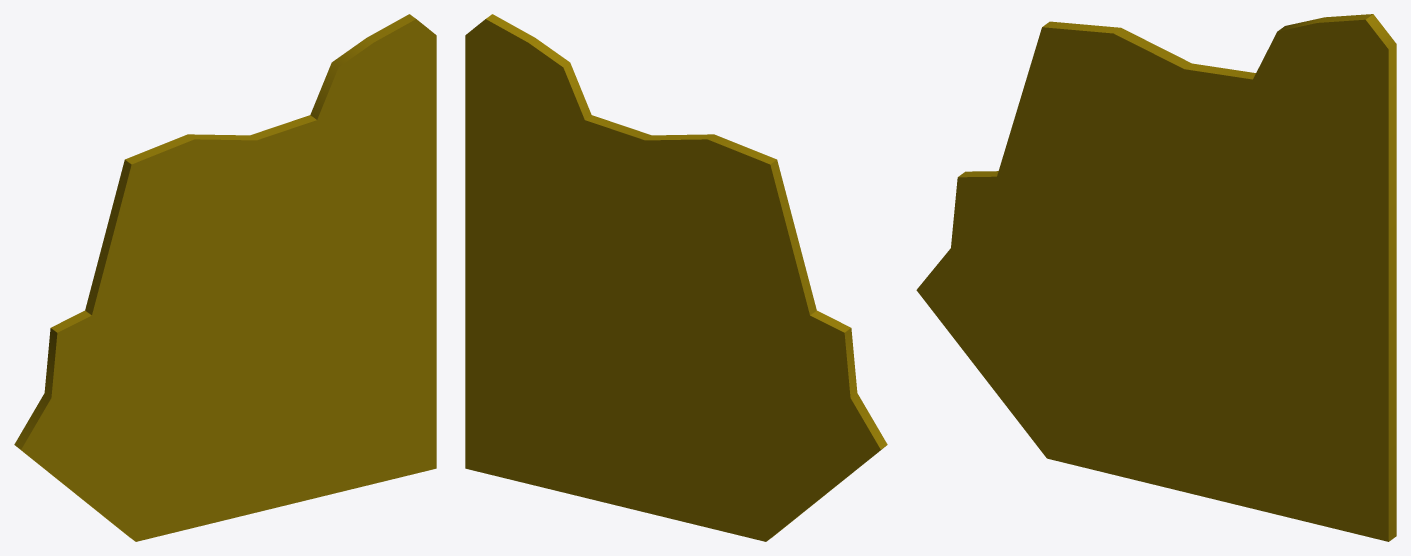
File: SM_Debris_mur3.fbx
The picture shows the model from 3 angles, left to right: view 1: azimuth 30°, elevation 25°; view 2: azimuth 150°, elevation 25°; view 3: azimuth 330°, elevation 25°; orthographic projection. The views are drawn at different scales.
Visible parts, largest first — view 1: Debris_mur3; view 2: Debris_mur3; view 3: Debris_mur3.
Part boxes in pixels (bbox=[...]): Debris_mur3: bbox=[14, 14, 436, 541]; Debris_mur3: bbox=[465, 14, 887, 541]; Debris_mur3: bbox=[916, 14, 1396, 541].
Bounding box in the file's own units: 357 × 373 × 10.19.
